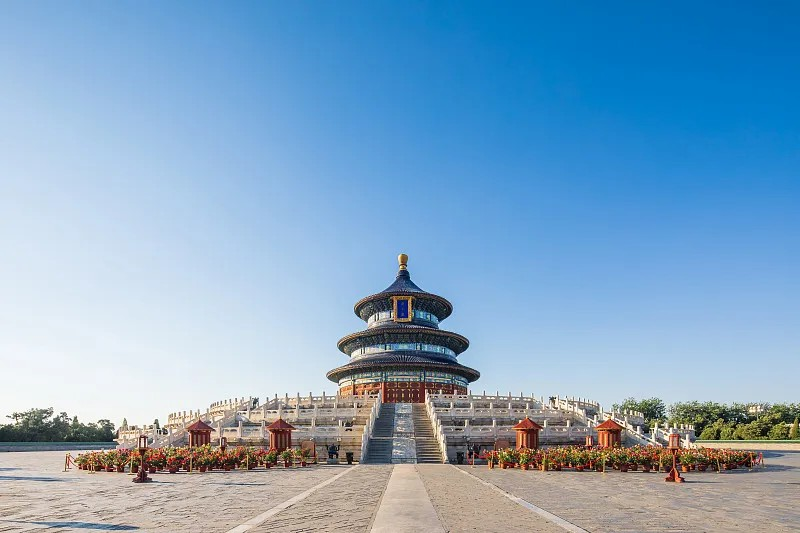Heaven: (325, 254, 480, 400)
